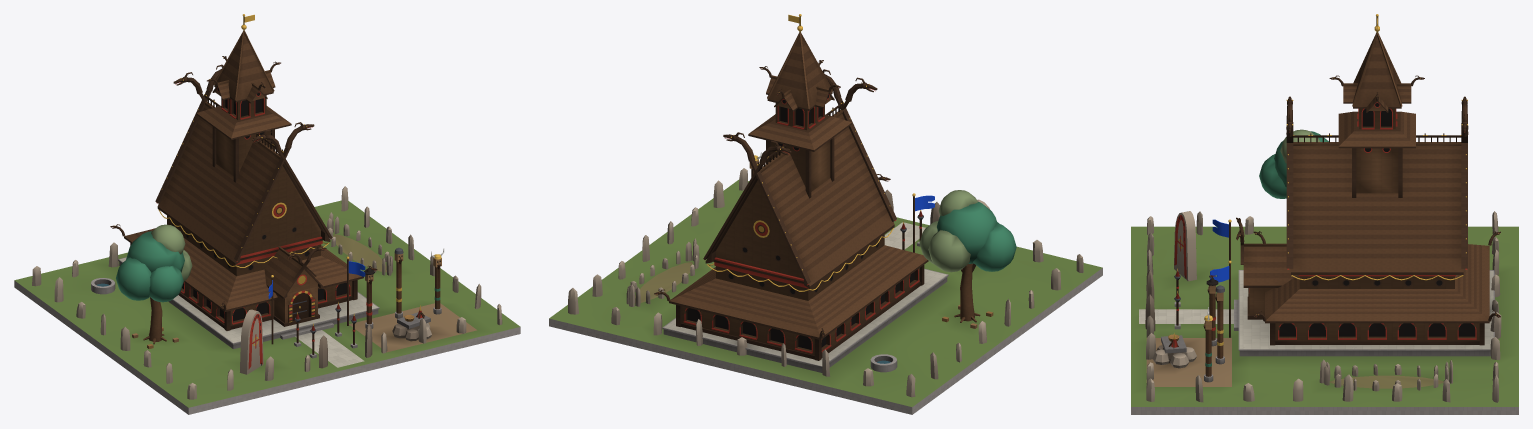
File: lm_hof.glb
3 views of the same model, side by side, from view 1: azimuth 30°, elevation 25°; view 2: azimuth 150°, elevation 25°; view 3: azimuth 270°, elevation 25° (orthographic). The views are drawn at different scales.
Visible parts, largest first — view 1: lm_hof; view 2: lm_hof; view 3: lm_hof.
Boxes of the visible parts, x1,y1,x2,y2 form: lm_hof: (14, 14, 520, 414); lm_hof: (549, 14, 1102, 414); lm_hof: (1131, 14, 1518, 414).
Size of the model in its own units: 2.2 by 1.77 by 2.
Materials: 1 (1 with a texture image).
